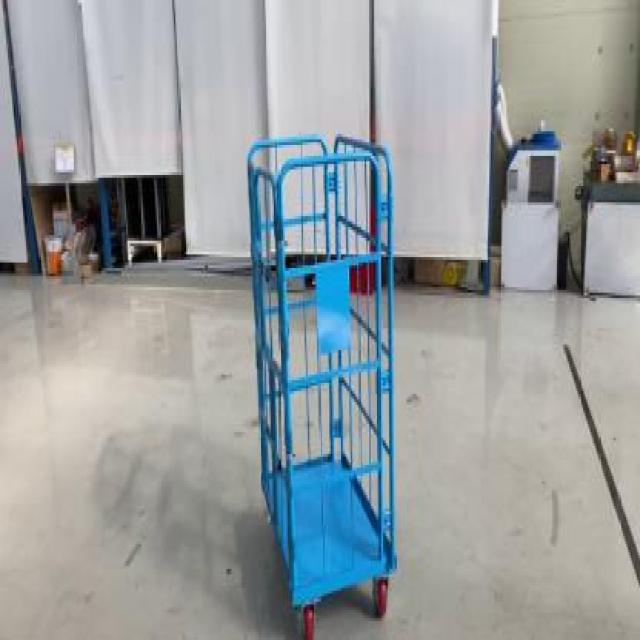cart: (246, 120, 397, 638)
